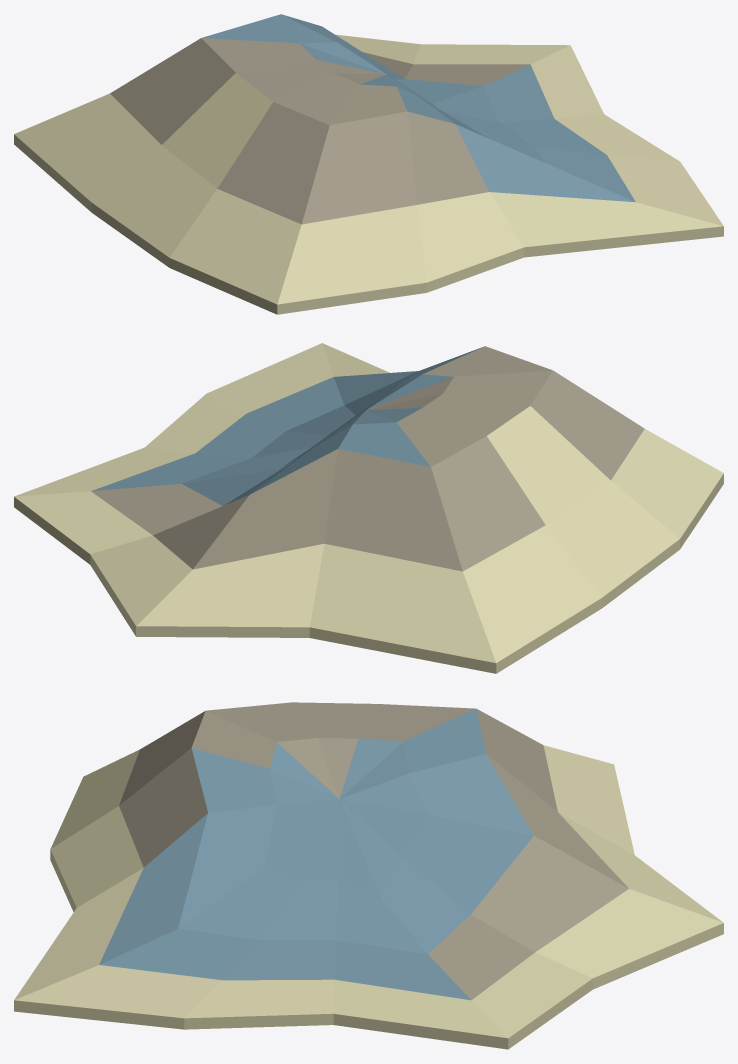
The model's file is terrain_001e_drop_off.glb.
The picture shows the model from 3 angles, top to bottom: view 1: azimuth 30°, elevation 25°; view 2: azimuth 150°, elevation 25°; view 3: azimuth 270°, elevation 25°; orthographic projection. The views are drawn at different scales.
Parts seen in each view (by area): view 1: terrain_001e_drop_off__mesh; view 2: terrain_001e_drop_off__mesh; view 3: terrain_001e_drop_off__mesh.
Part boxes in pixels (left/top/right/bottom): terrain_001e_drop_off__mesh: left=14, top=14, right=723, bottom=314; terrain_001e_drop_off__mesh: left=14, top=343, right=723, bottom=673; terrain_001e_drop_off__mesh: left=14, top=702, right=723, bottom=1049.
Bounding box in the file's own units: 4.81 × 1.1 × 5.14.
